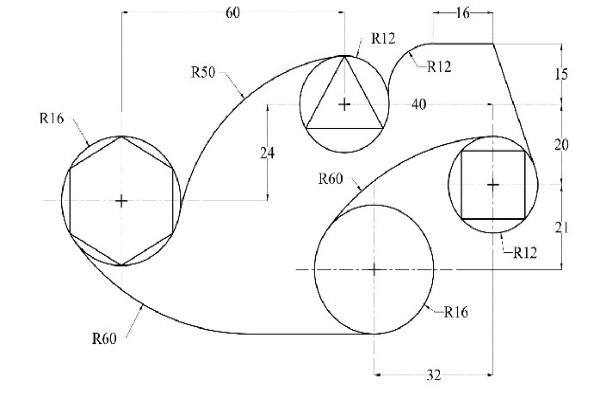dimensions: (437, 299, 480, 324), (186, 63, 221, 86), (312, 165, 347, 188), (425, 54, 459, 76), (89, 326, 121, 349), (511, 240, 541, 264), (547, 131, 576, 154), (219, 2, 249, 24), (35, 107, 68, 127), (545, 218, 576, 239), (419, 363, 449, 384), (369, 29, 398, 47), (453, 2, 476, 23), (408, 96, 433, 112), (256, 144, 278, 161), (553, 64, 573, 82)
